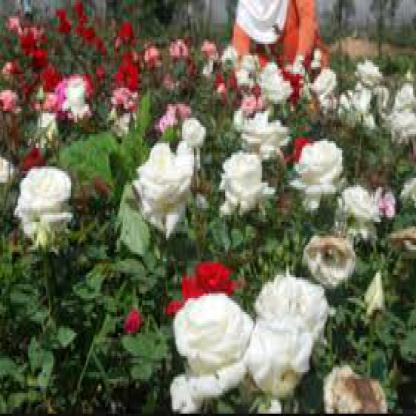Rose-Mawar: (6, 68, 416, 248), (162, 225, 334, 415), (9, 6, 222, 77)
